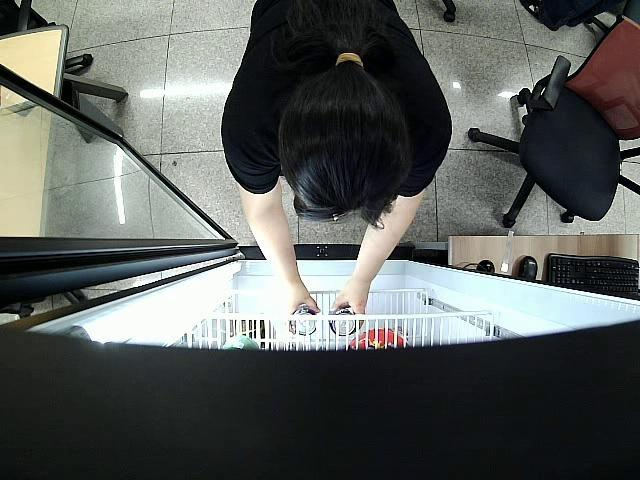14_welchsGrape: (288, 306, 316, 337), (330, 308, 357, 337)
